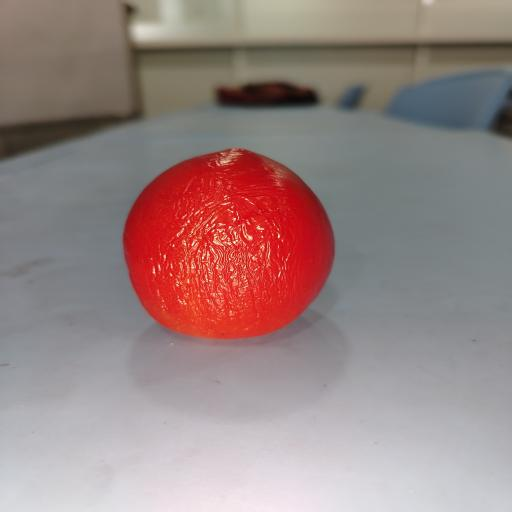spoiled: (124, 149, 334, 339)
